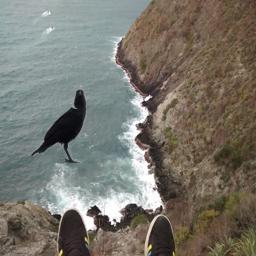Crow: (31, 88, 87, 163)
